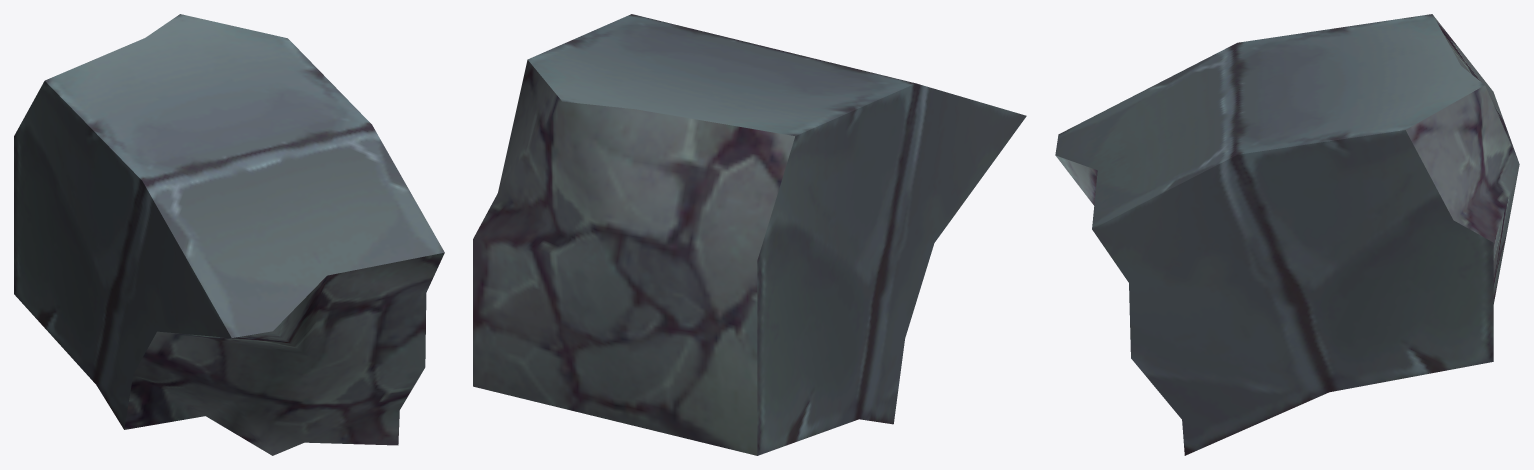
The model's file is huoshan_stone_06.FBX.
3 views of the same model, side by side, from view 1: azimuth 30°, elevation 25°; view 2: azimuth 150°, elevation 25°; view 3: azimuth 270°, elevation 25° (orthographic). The views are drawn at different scales.
Visible parts, largest first — view 1: huoshan_stone_06; view 2: huoshan_stone_06; view 3: huoshan_stone_06.
Boxes of the visible parts, x1,y1,x2,y2 form: huoshan_stone_06: [14, 14, 444, 455]; huoshan_stone_06: [473, 14, 1026, 455]; huoshan_stone_06: [1055, 14, 1519, 455].
Size of the model in its own units: 301 by 423 by 527.
